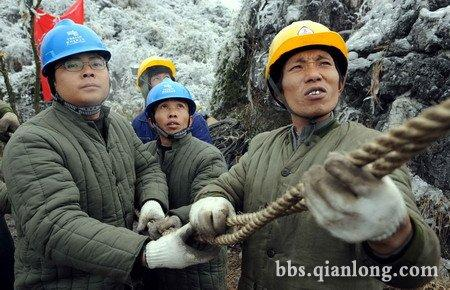gloves: (300, 149, 408, 243), (143, 222, 219, 270), (187, 195, 236, 246), (136, 200, 166, 233)
hard-hat: (263, 19, 348, 81), (40, 18, 111, 76), (145, 77, 195, 116)
person: (188, 20, 441, 290), (0, 17, 226, 289), (139, 76, 228, 288)
